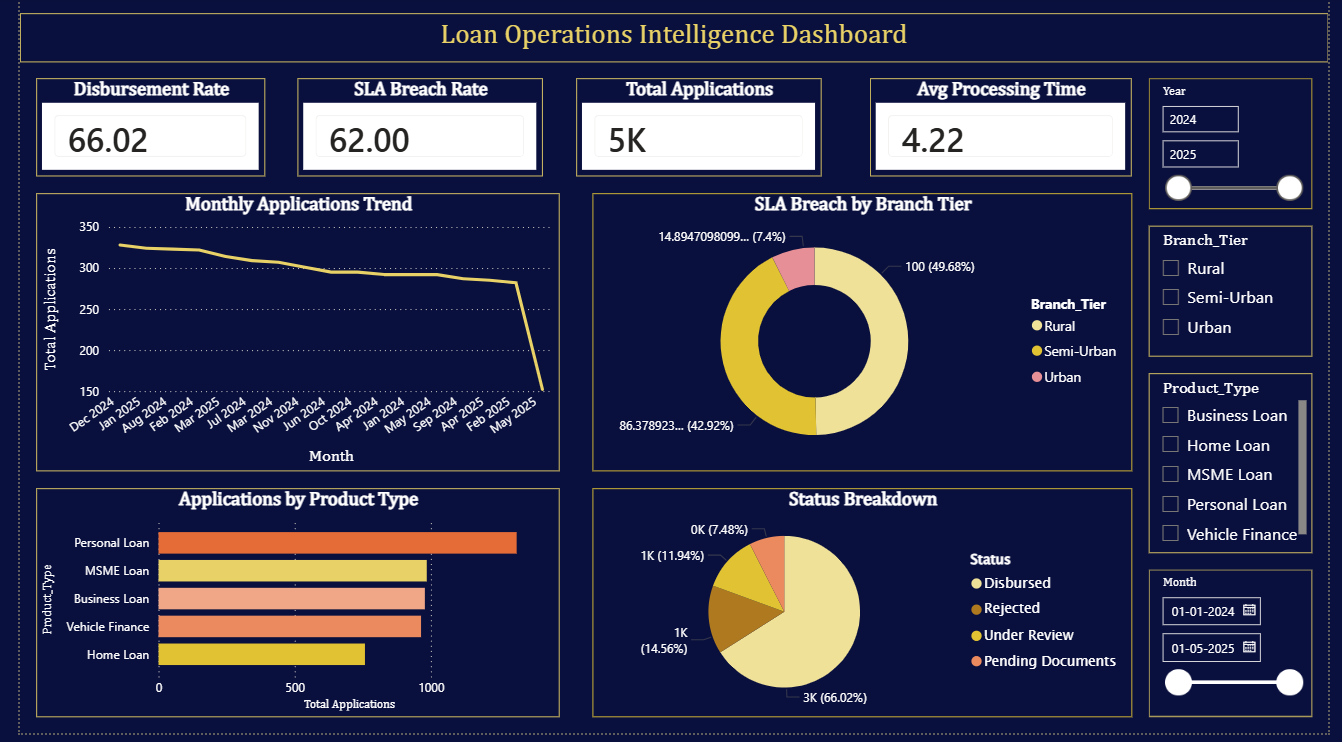

This screenshot's page, from the dashboard's own definition file:
{"tool":"powerbi","page":{"name":"Operations Overview","canvas":[1280,720],"ordinal":0},"visuals":[{"type":"cardVisual","title":"Total Applications","fields":{"Data":["AU_Bank_Loan_Operations_Data.Total Applications"]},"box":[544,80,240,96],"z":0},{"type":"cardVisual","title":"Avg Processing Time","fields":{"Data":["AU_Bank_Loan_Operations_Data.Avg Total TAT Days"]},"box":[832,80,256,96],"z":1000},{"type":"cardVisual","title":"SLA Breach Rate","fields":{"Data":["AU_Bank_Loan_Operations_Data.SLA Breach %"]},"box":[272,80,240,96],"z":2000},{"type":"cardVisual","title":"Disbursement Rate","fields":{"Data":["AU_Bank_Loan_Operations_Data.Disbursement Rate %"]},"box":[16,80,224,96],"z":3000},{"type":"lineChart","title":"Monthly Applications Trend","fields":{"Y":["AU_Bank_Loan_Operations_Data.Total Applications"],"Category":["DateTable.Month"]},"box":[16,192,512,272],"z":4000},{"type":"clusteredBarChart","title":"Applications by Product Type","fields":{"Y":["AU_Bank_Loan_Operations_Data.Total Applications"],"Category":["AU_Bank_Loan_Operations_Data.Product_Type"]},"box":[16,480,512,224],"z":5000},{"type":"donutChart","title":"SLA Breach by Branch Tier","fields":{"Category":["AU_Bank_Loan_Operations_Data.Branch_Tier"],"Y":["AU_Bank_Loan_Operations_Data.SLA Breach %"]},"box":[560,192,528,272],"z":6000},{"type":"slicer","fields":{"Values":["AU_Bank_Loan_Operations_Data.Branch_Tier"]},"box":[1104,224,160,128],"z":7000},{"type":"pieChart","title":"Status Breakdown","fields":{"Category":["AU_Bank_Loan_Operations_Data.Status"],"Y":["AU_Bank_Loan_Operations_Data.Total Applications"]},"box":[560,480,528,224],"z":8000},{"type":"slicer","fields":{"Values":["AU_Bank_Loan_Operations_Data.Product_Type"]},"box":[1104,368,160,176],"z":9000},{"type":"slicer","fields":{"Values":["DateTable.Year"]},"box":[1104,80,160,128],"z":10000},{"type":"textbox","box":[0,16,1280,48],"z":11000},{"type":"slicer","fields":{"Values":["AU_Bank_Loan_Operations_Data.Month"]},"box":[1104,560,160,144],"z":12000}]}

Visuals, with their boxes in screenshot pixels (x1, y1, x2, y2), scaled from the page's 1280x720 canvas onto the 1342x742 screenshot:
"Total Applications" cardVisual: select_region(570, 82, 822, 181)
"Avg Processing Time" cardVisual: select_region(872, 82, 1141, 181)
"SLA Breach Rate" cardVisual: select_region(285, 82, 537, 181)
"Disbursement Rate" cardVisual: select_region(17, 82, 252, 181)
"Monthly Applications Trend" lineChart: select_region(17, 198, 554, 478)
"Applications by Product Type" clusteredBarChart: select_region(17, 495, 554, 726)
"SLA Breach by Branch Tier" donutChart: select_region(587, 198, 1141, 478)
slicer - AU_Bank_Loan_Operations_Data.Branch_Tier: select_region(1157, 231, 1325, 363)
"Status Breakdown" pieChart: select_region(587, 495, 1141, 726)
slicer - AU_Bank_Loan_Operations_Data.Product_Type: select_region(1157, 379, 1325, 561)
slicer - DateTable.Year: select_region(1157, 82, 1325, 214)
textbox: select_region(0, 16, 1341, 66)
slicer - AU_Bank_Loan_Operations_Data.Month: select_region(1157, 577, 1325, 726)
